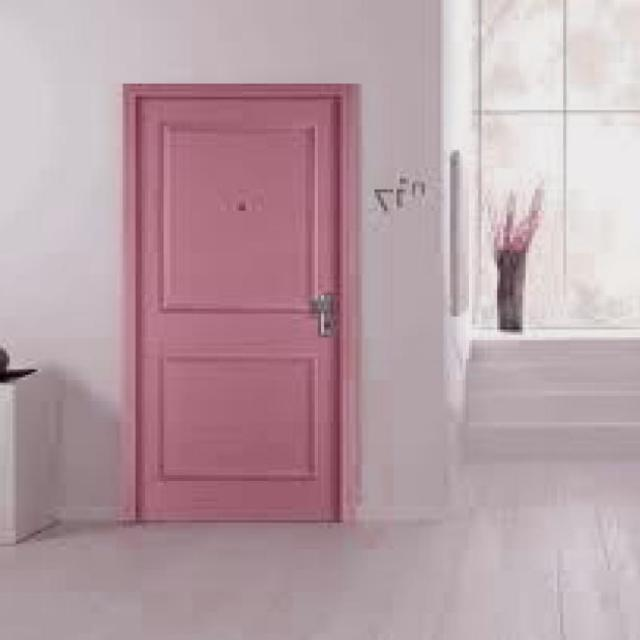door: (128, 83, 347, 523)
